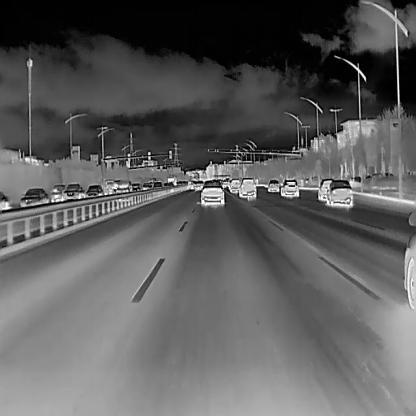car: (19, 186, 49, 212), (325, 177, 352, 204), (200, 179, 224, 206), (63, 181, 85, 204), (278, 177, 300, 197), (317, 177, 336, 199), (84, 183, 103, 204), (237, 177, 256, 198), (115, 178, 133, 196), (50, 184, 67, 202), (266, 177, 279, 193), (228, 177, 242, 191), (150, 181, 163, 193), (141, 183, 152, 195), (162, 180, 173, 192), (166, 175, 177, 187), (130, 182, 140, 194), (194, 179, 203, 189), (185, 180, 195, 189)
